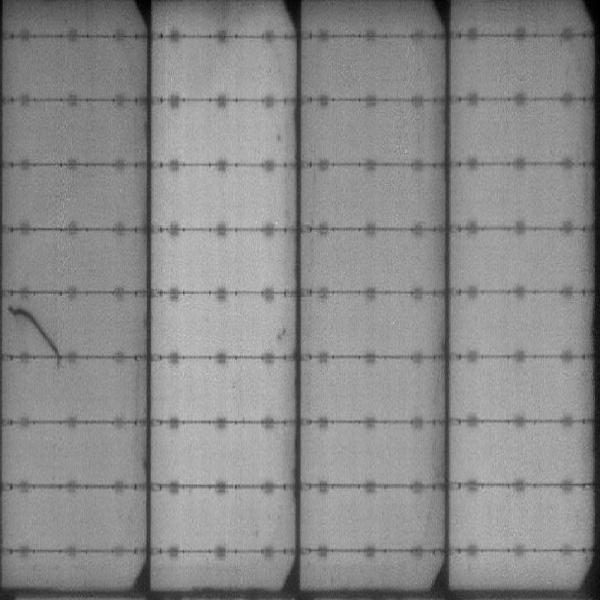scratch: (8, 306, 68, 352)
